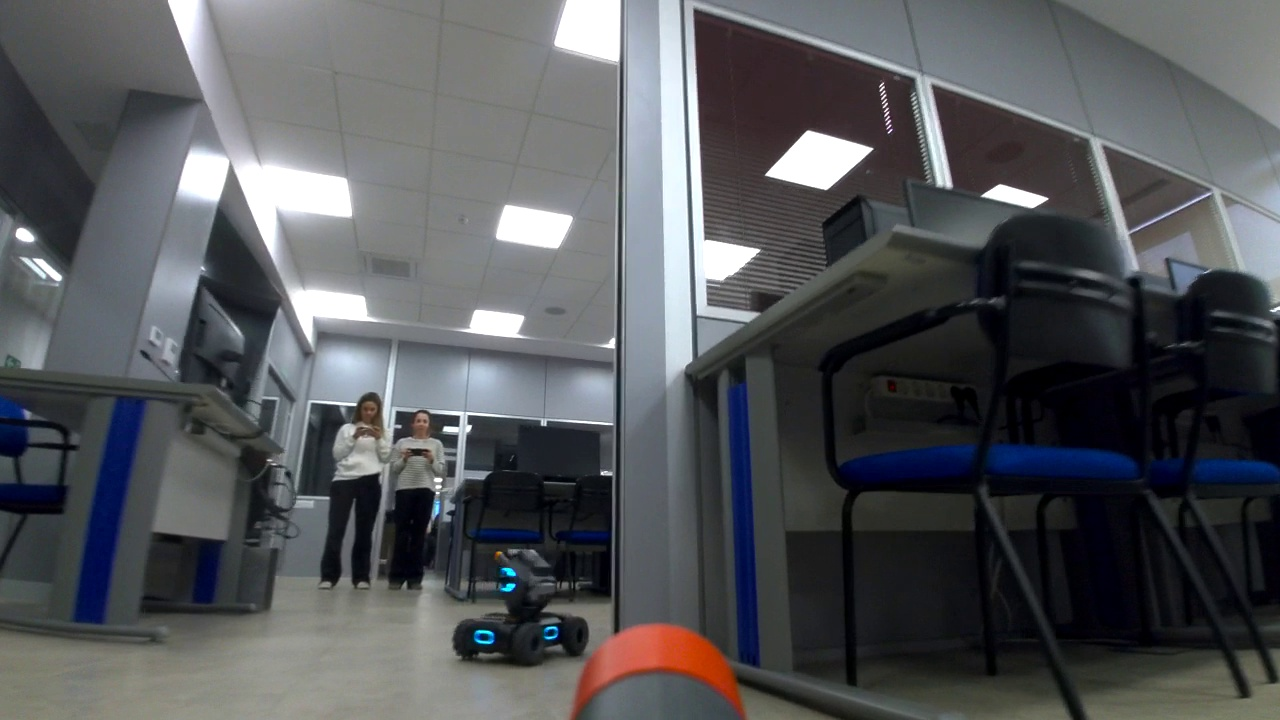robot: (452, 547, 594, 669)
